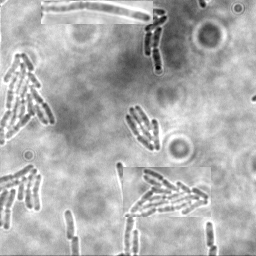Dividing: (41, 1, 153, 24), (114, 161, 133, 255), (204, 221, 215, 248)
Microcolony: (1, 51, 56, 147), (123, 167, 211, 217), (1, 162, 44, 231), (130, 8, 167, 72), (124, 106, 160, 153), (63, 208, 74, 240)
